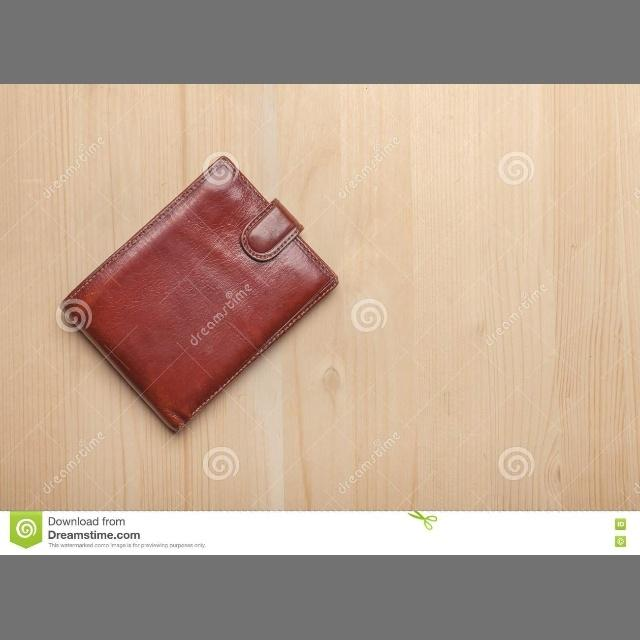Wallet: (39, 130, 369, 442)
